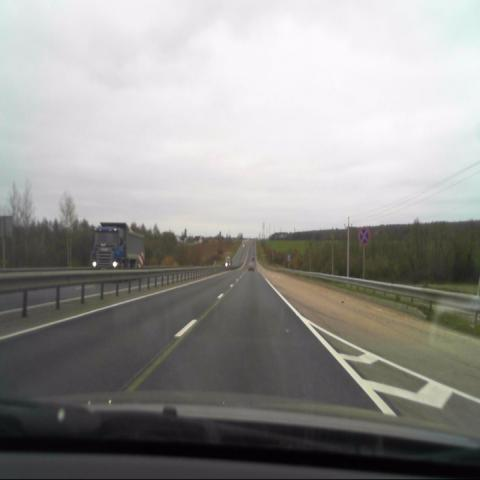3_27: (360, 228, 370, 245)
